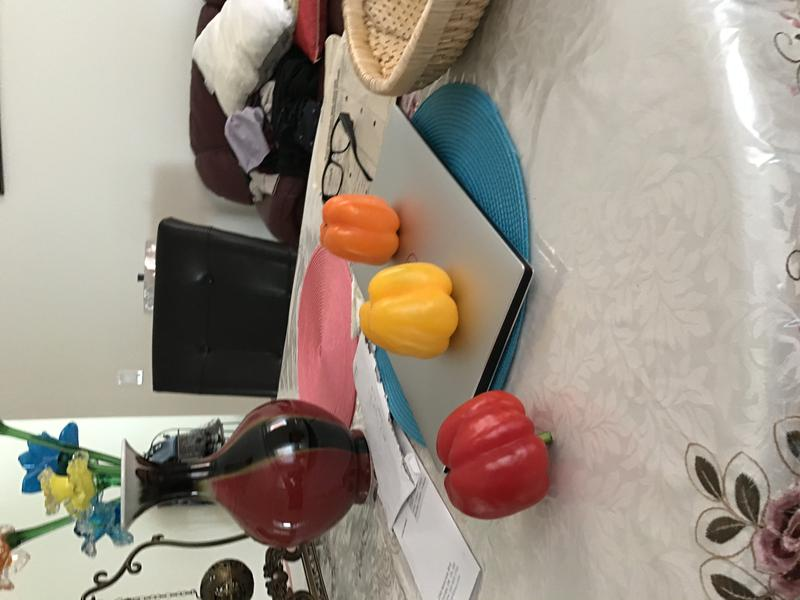orange_pepper: (313, 190, 405, 266)
red_pepper: (430, 386, 561, 518)
yellow_pepper: (356, 257, 469, 367)
